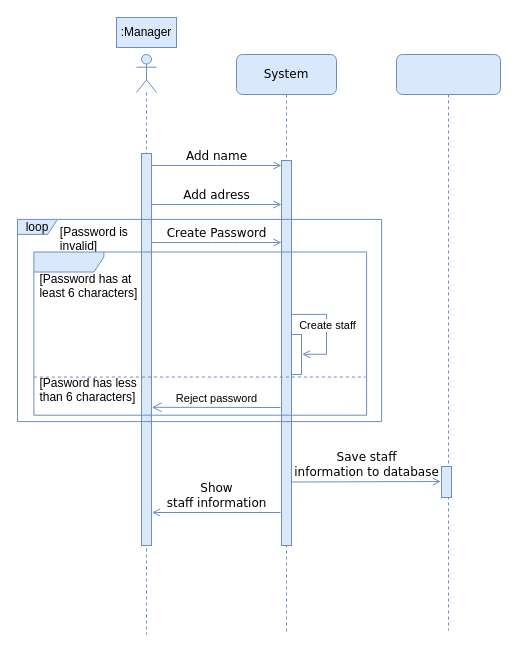
Some shapes in this 518 by 652 pixel diagram are drawn without their labels. Here are the shapes that lost their labels. From the top down, the box of each, then its label:
(33, 251, 367, 415): Alternative
(396, 54, 500, 630): Database
